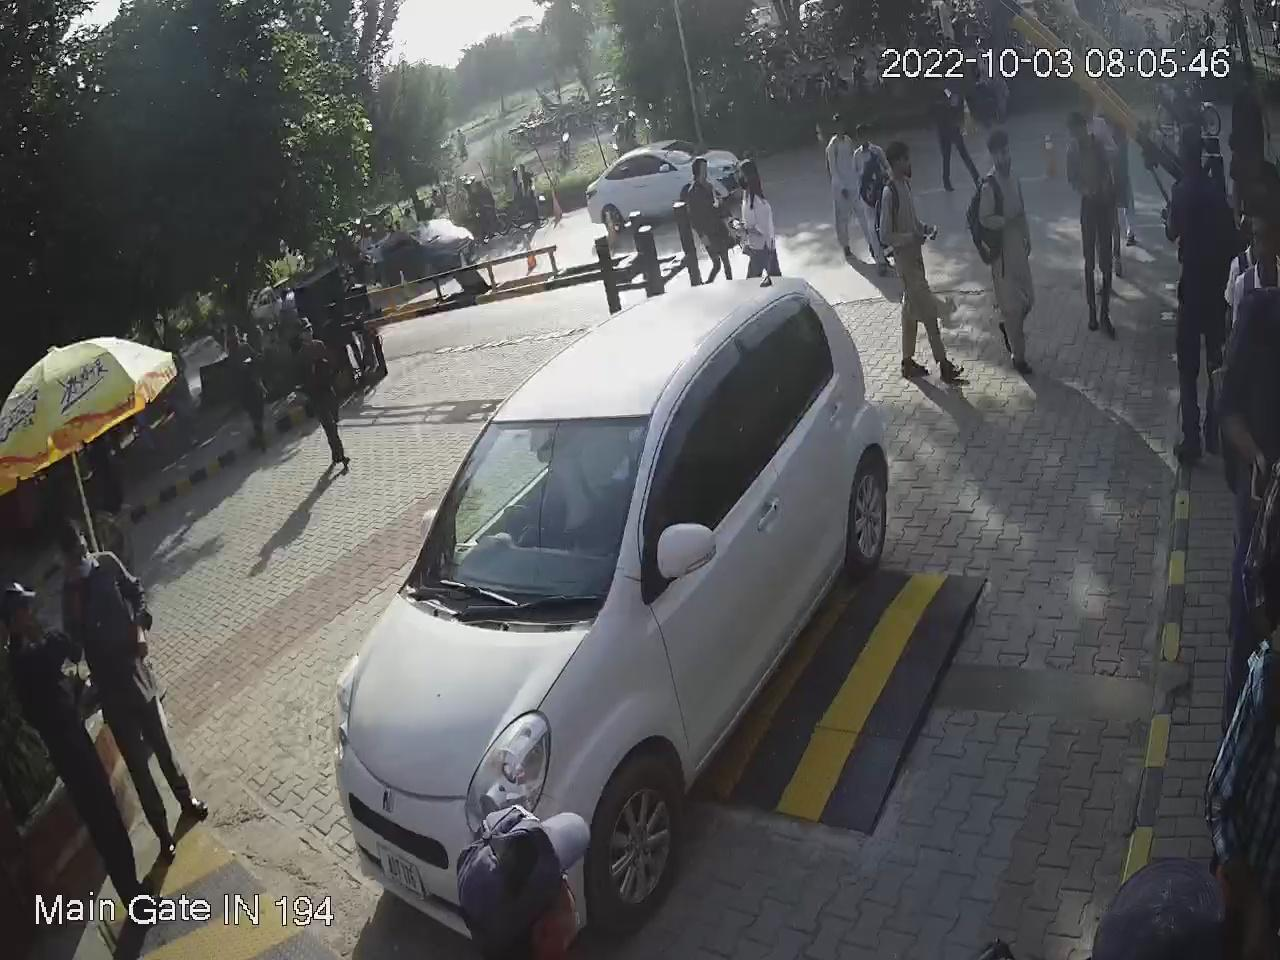windshield: (400, 405, 655, 645)
